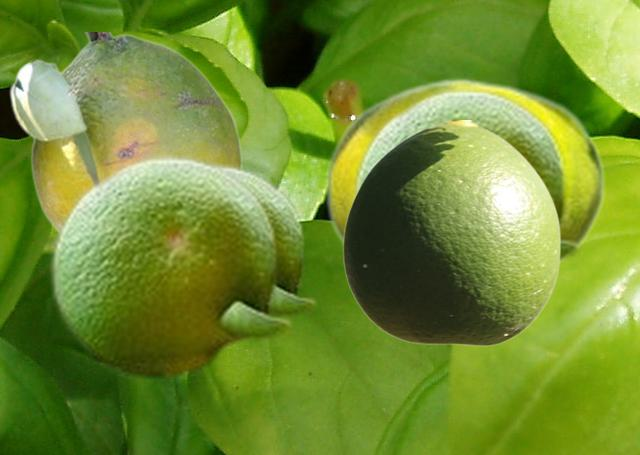dalandan: (47, 150, 295, 380), (324, 77, 604, 266), (342, 120, 560, 345), (8, 32, 242, 228), (350, 83, 583, 263), (218, 160, 319, 348)
